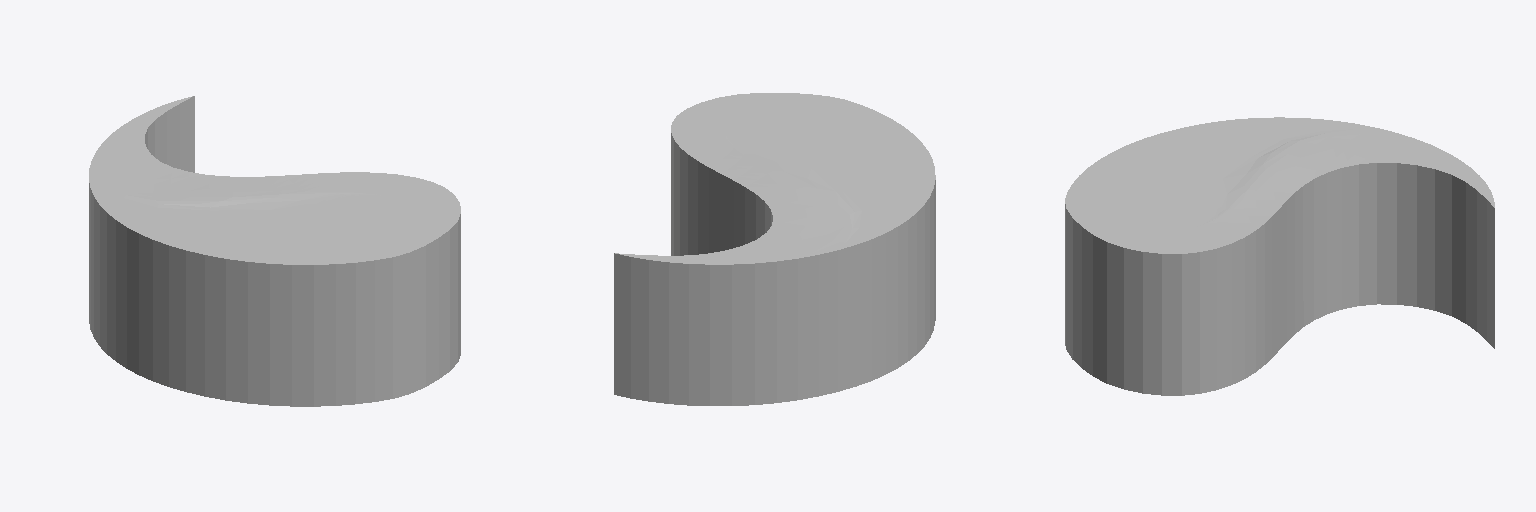
Rendered from yangout.obj.
3 renders of one model, left to right at view 1: azimuth 30°, elevation 25°; view 2: azimuth 150°, elevation 25°; view 3: azimuth 270°, elevation 25°, orthographic.
Visible parts, largest first — view 1: yangout; view 2: yangout; view 3: yangout.
Boxes of the visible parts, x1=… form: yangout: x1=89, y1=96, x2=460, y2=406; yangout: x1=614, y1=93, x2=935, y2=405; yangout: x1=1065, y1=117, x2=1494, y2=395.
Size of the model in its own units: 73.38 by 35.77 by 97.64.